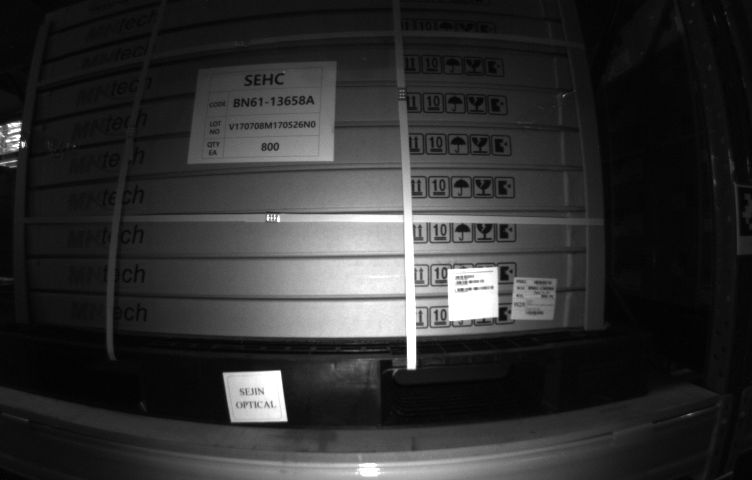True Barcode: (513, 275, 556, 318)
